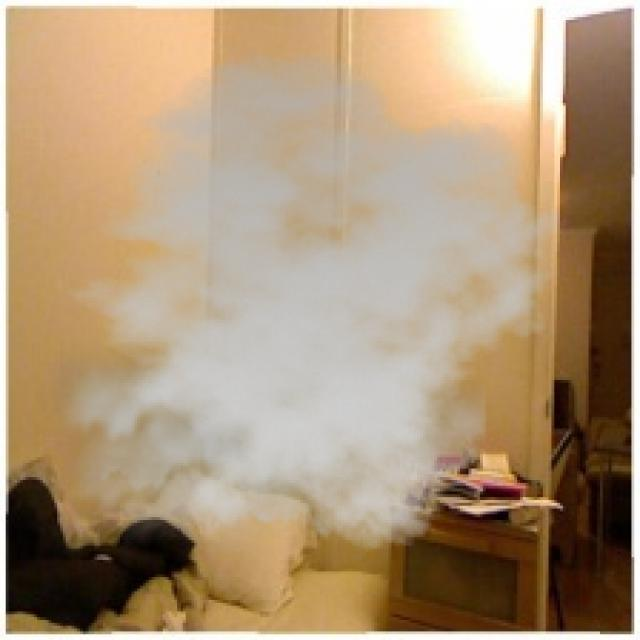Smoke: (34, 51, 566, 566)
